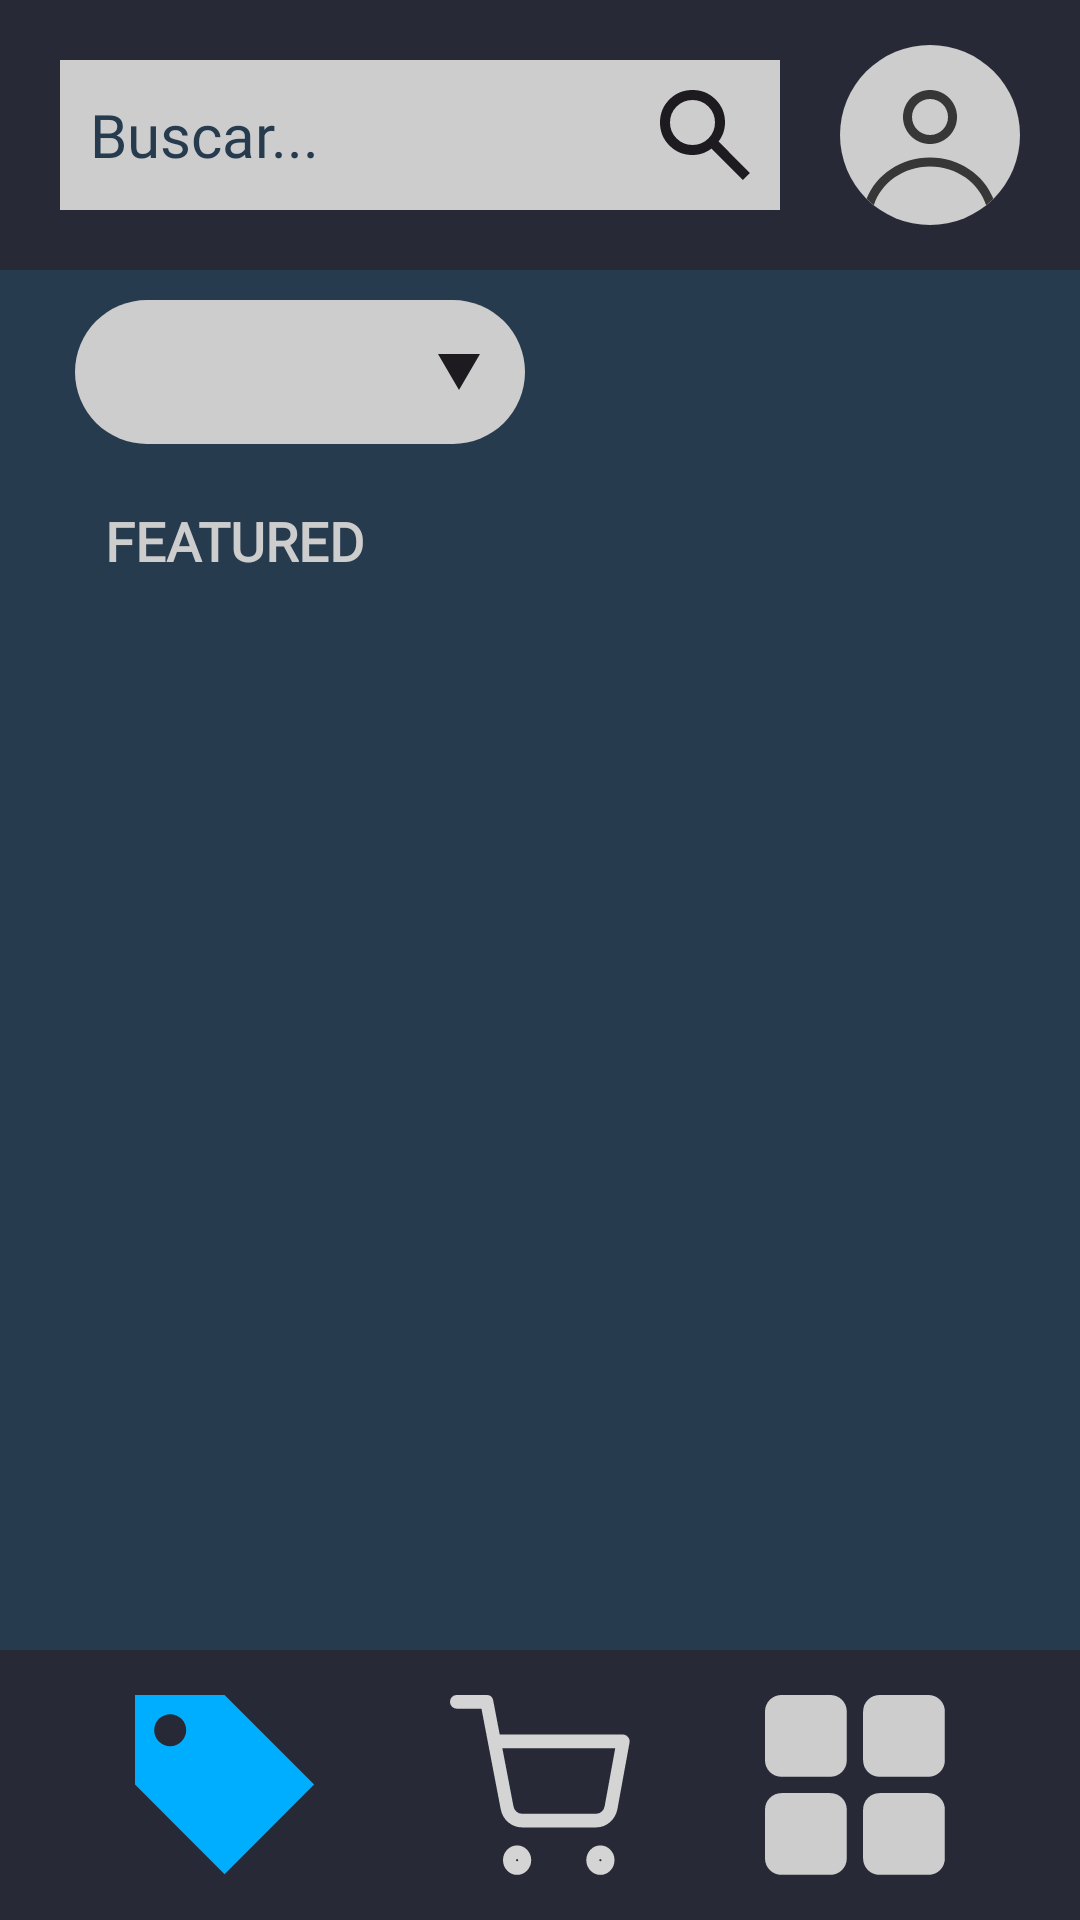

Screen size 1080 x 1920. Icon name, then its center in pixels as (x=x, y=y):
search: (x=705, y=135)
shopping cart: (x=540, y=1785)
tag: (x=224, y=1784)
